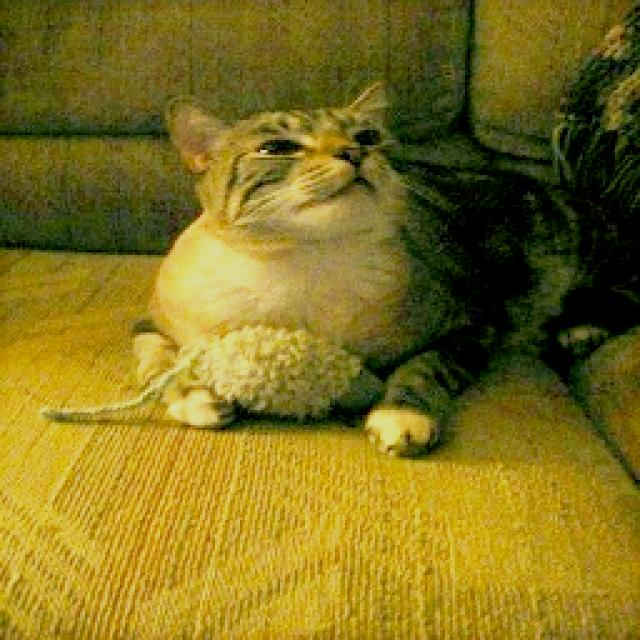cat: (119, 82, 640, 461)
